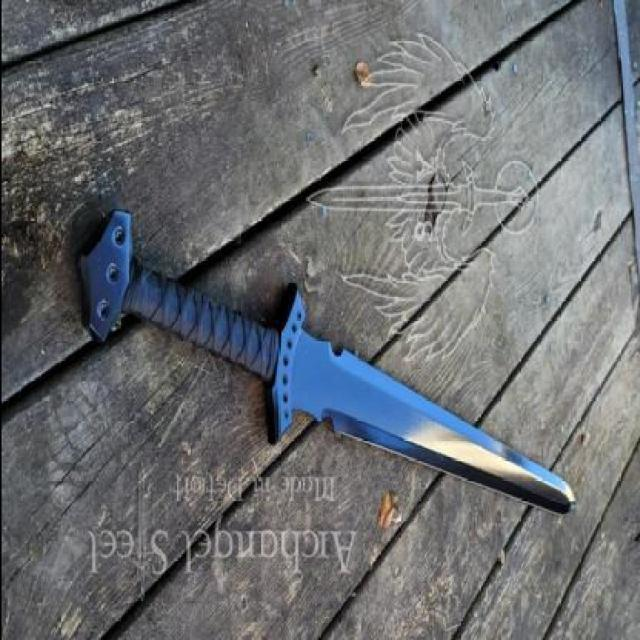weapon: (77, 196, 580, 534)
